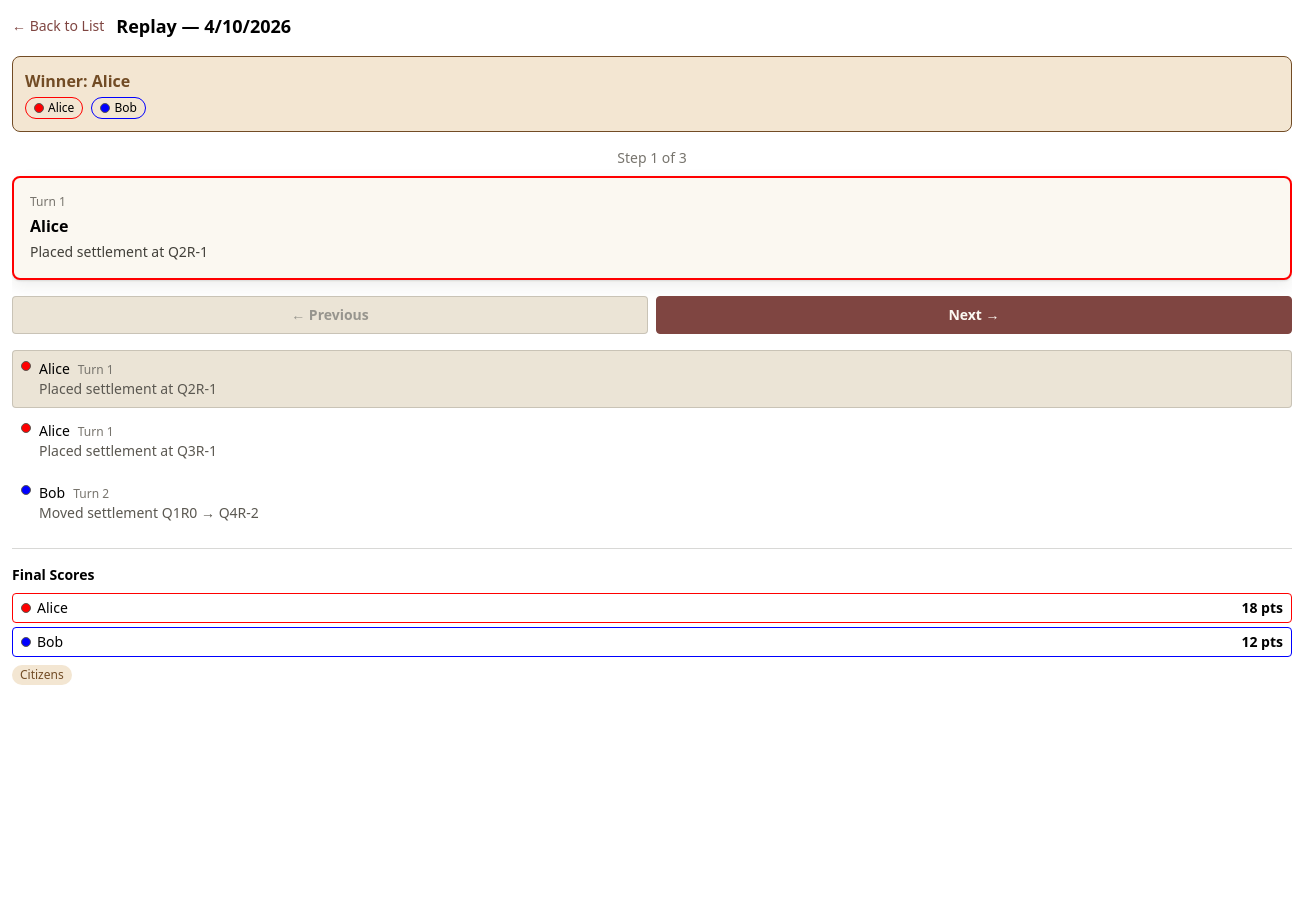
it: ReplayViewer › Next button is disabled at last step
What coordinates should you click on to do the following:
click the button "Next →"
I would click on:
 (974, 315)
Its box is [656, 296, 1292, 334].
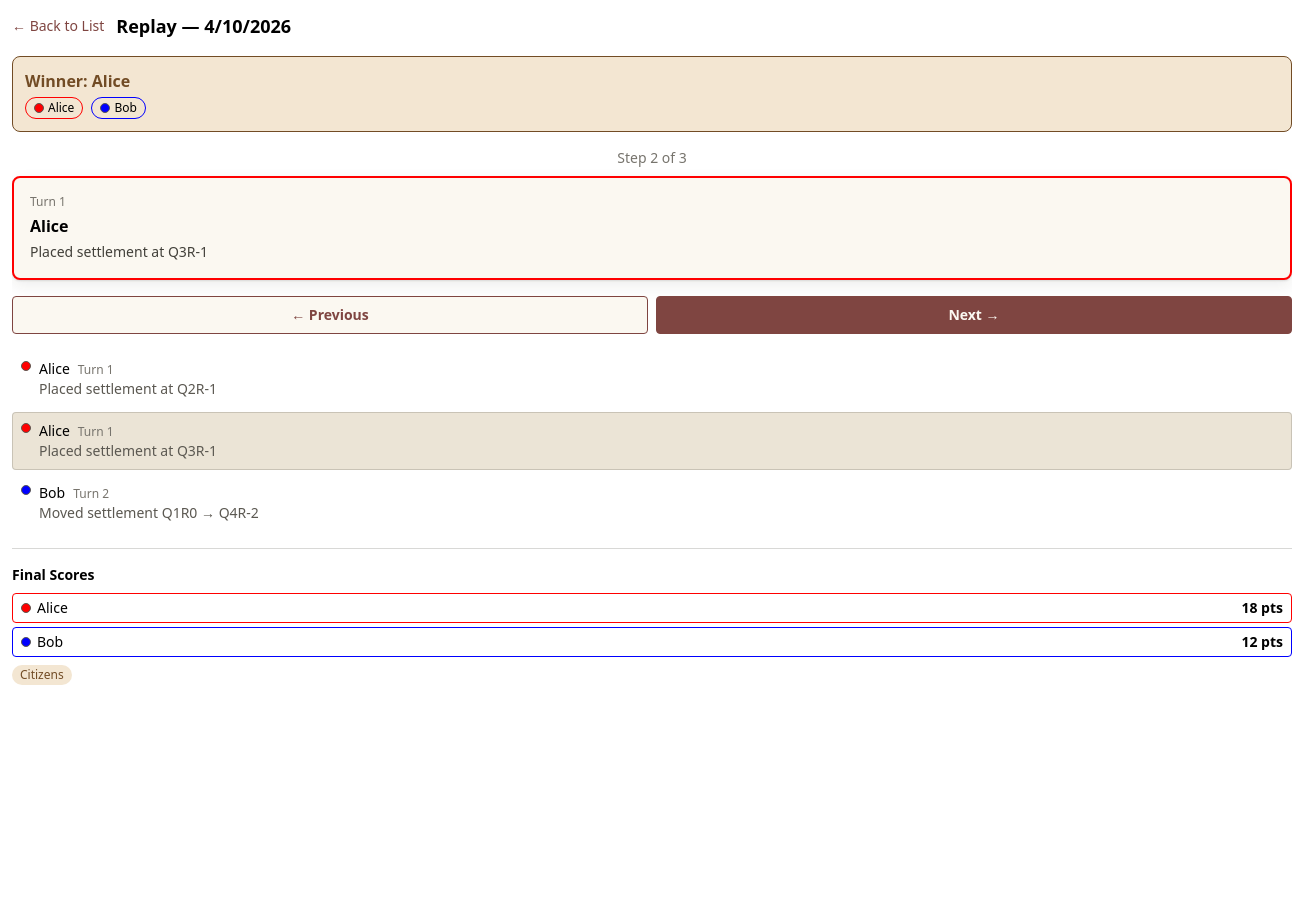
What coordinates should you click on to do the following:
click the button "Next →"
I would click on:
 (974, 315)
Its box is [656, 296, 1292, 334].
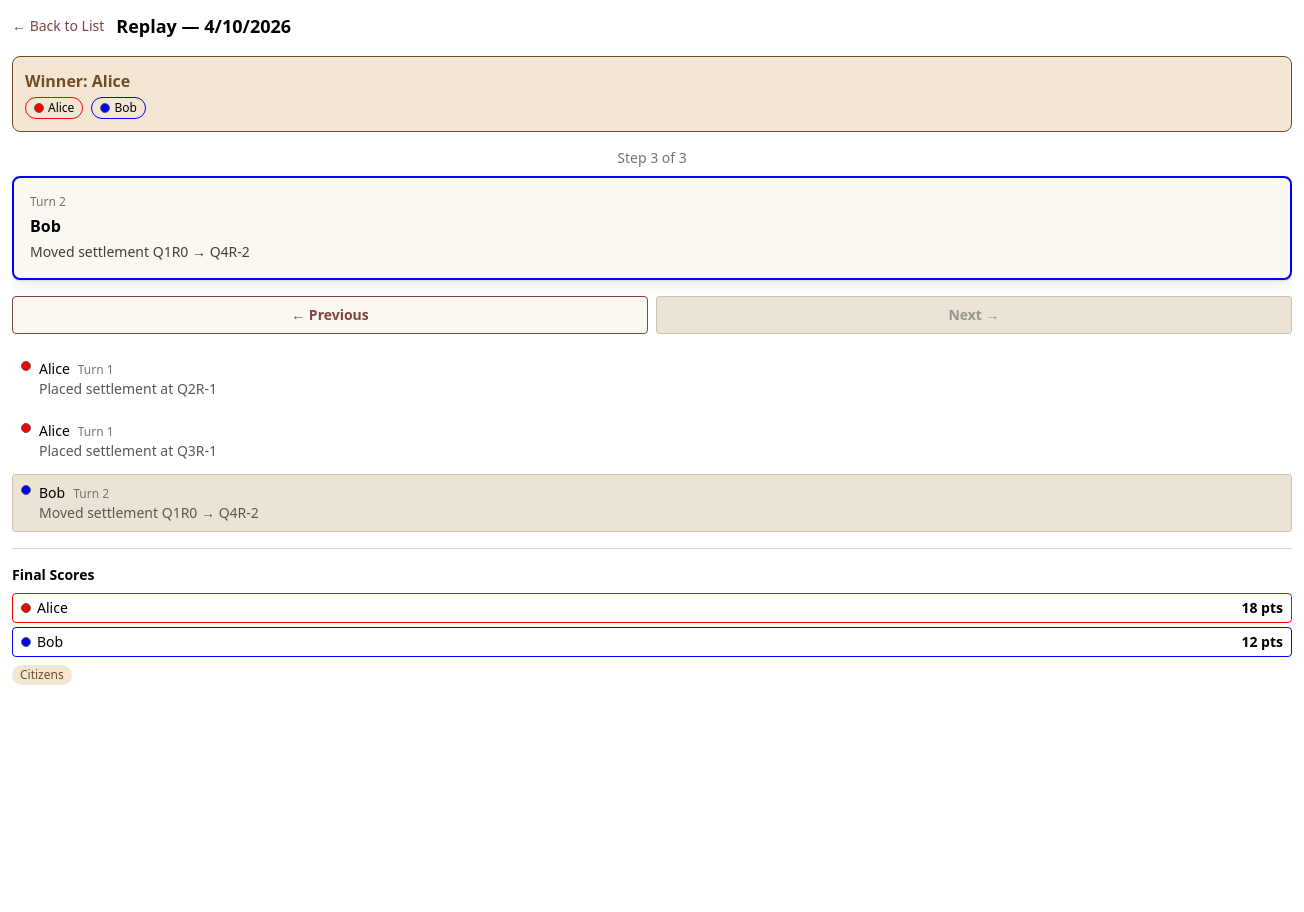
Now the button "Next →" is disabled, box [656, 296, 1292, 334]
